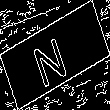N_NW: (34, 24, 76, 86)
